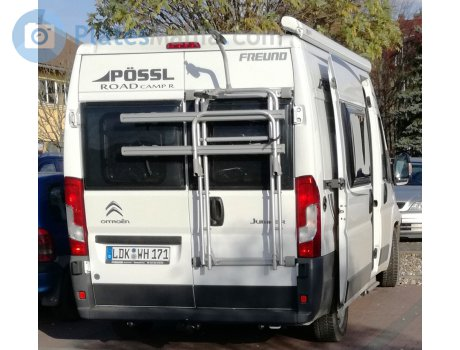License Plates: (113, 245, 170, 264)
